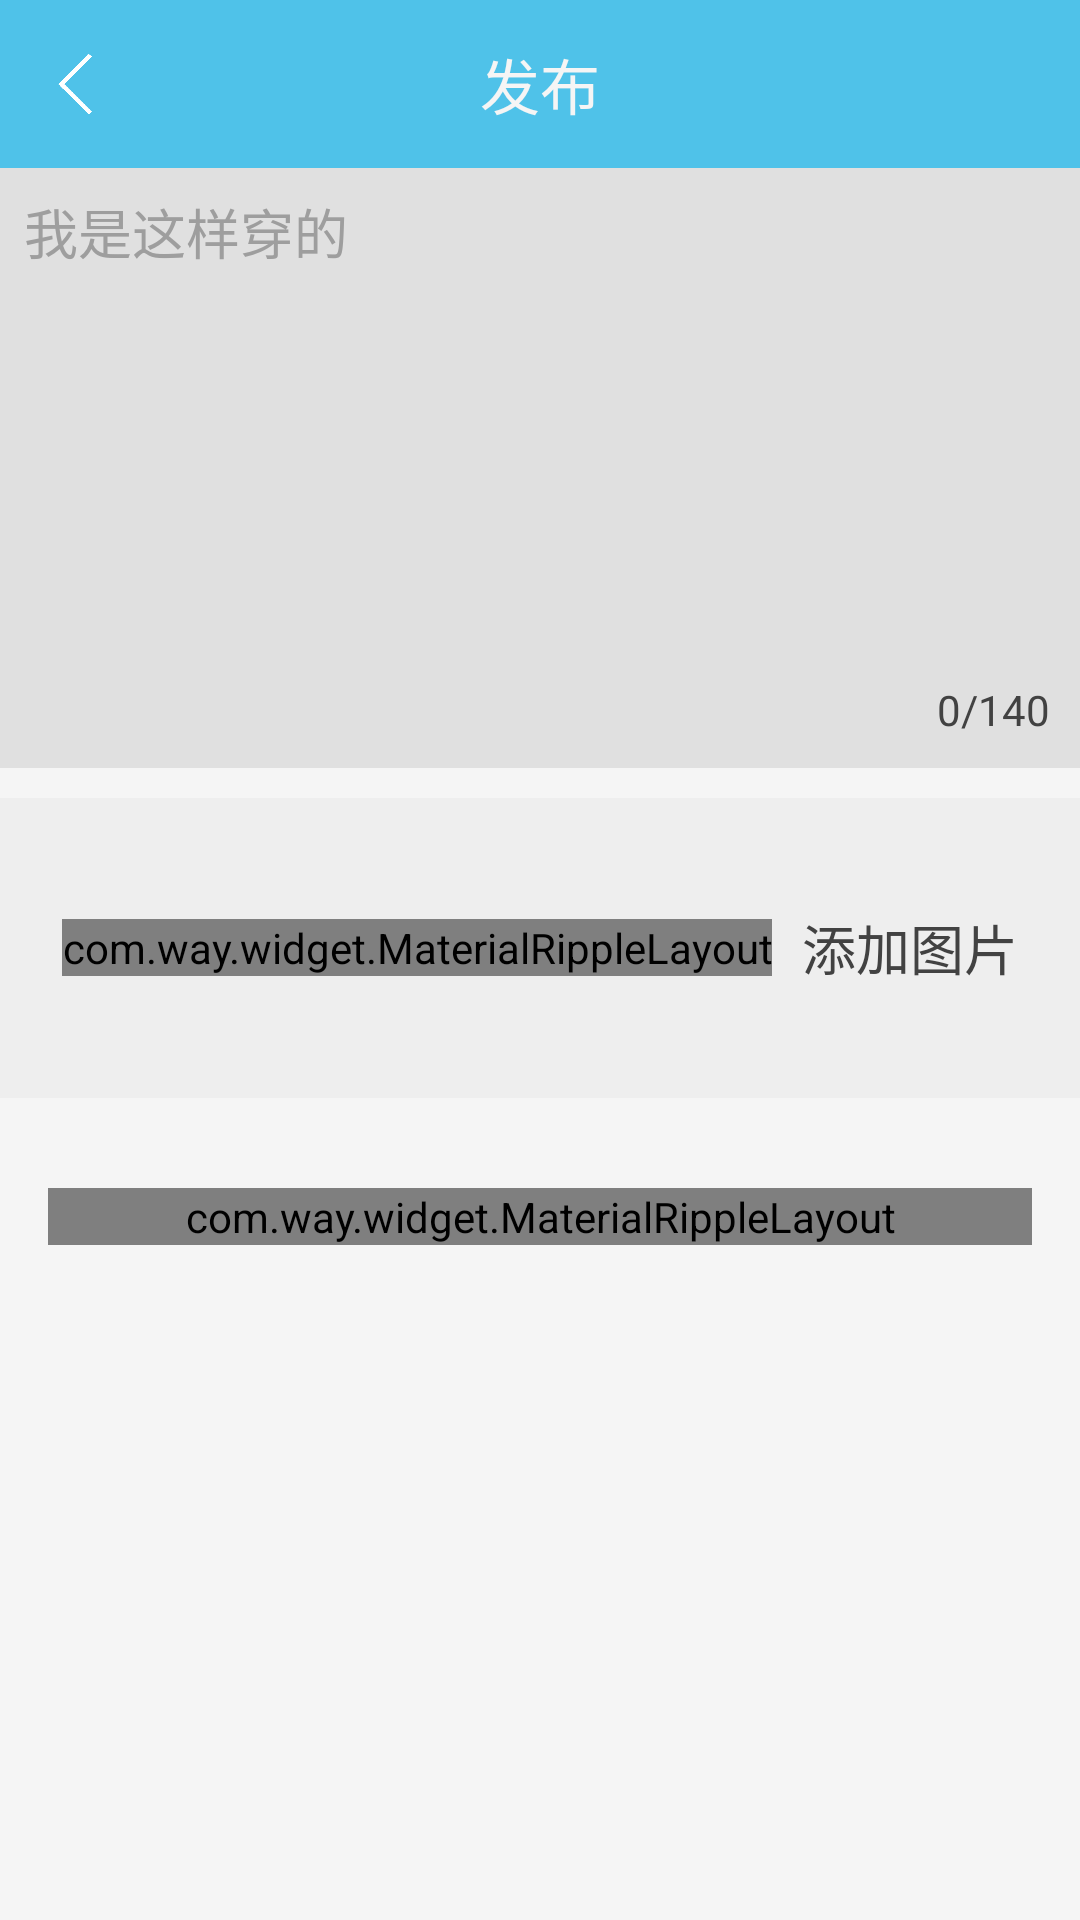

Icons on this 1080w x 1920h Android screen, each with its box as [x1, y1, x2, y2]:
back: [58, 54, 92, 114]
